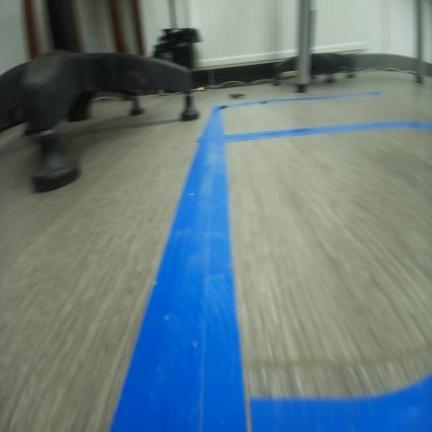place: (108, 118, 431, 431), (199, 90, 431, 145)
